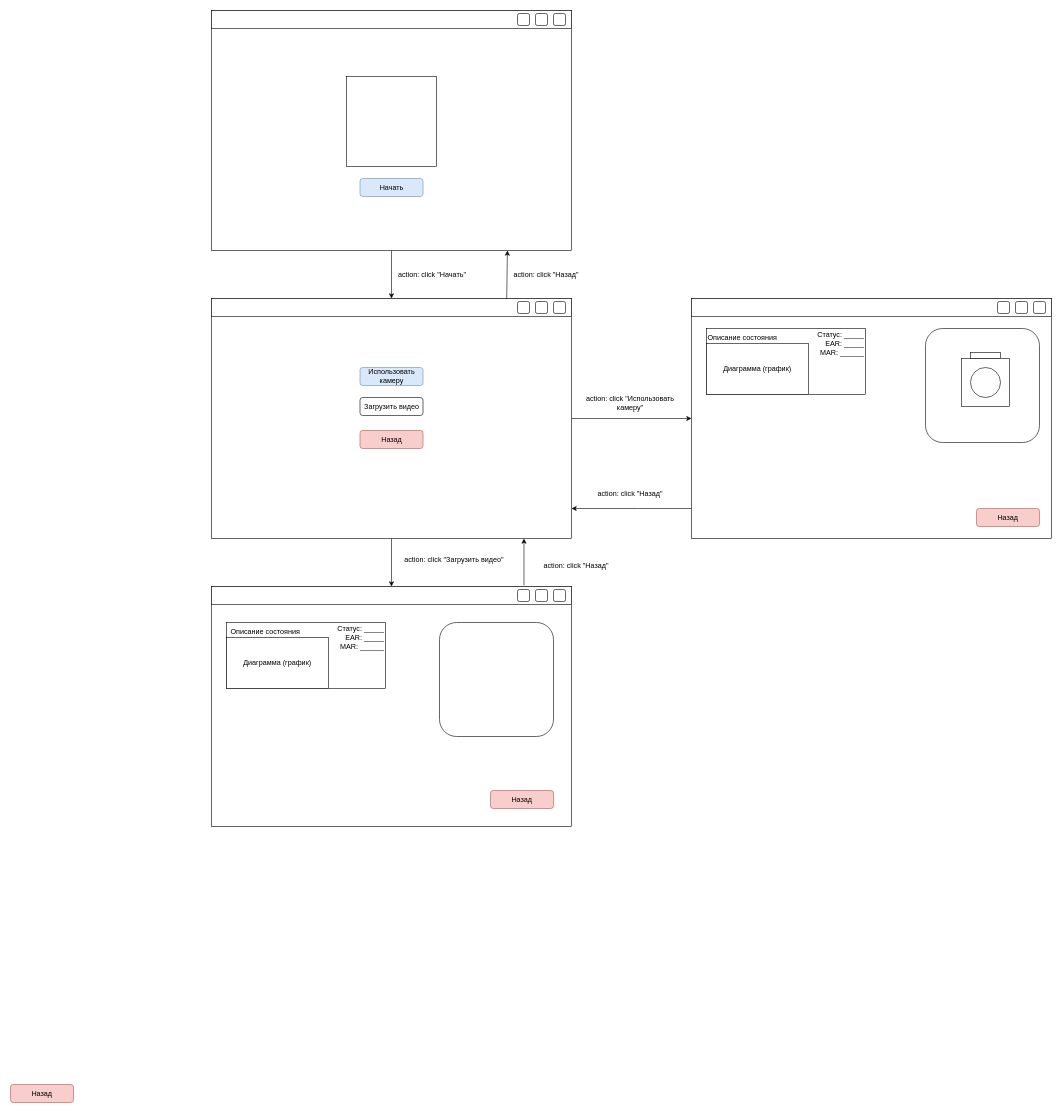
This 1062x1113 diagram has some shape labels left out. The box of each missing label's shape, as (x1, y1, x2, y2) in pixels:
LOGO: (346, 76, 436, 166)
Видео на репите: (439, 622, 554, 736)
